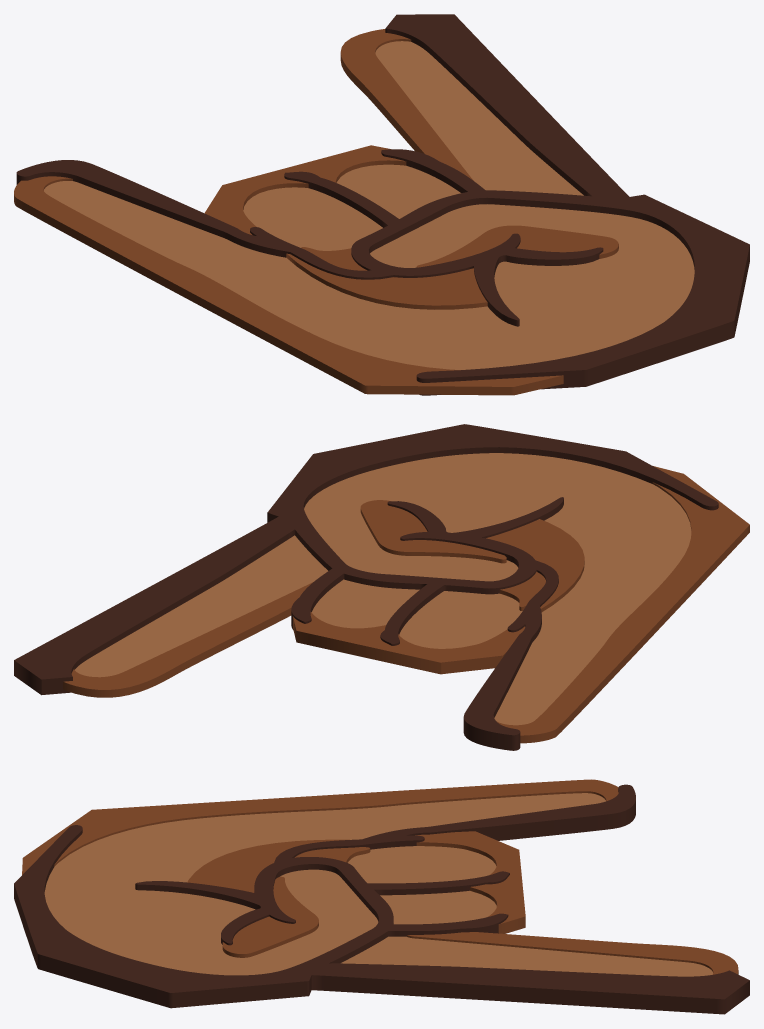
Rendered from emoji_u1f918_1f3fe.glb.
The picture shows the model from 3 angles, top to bottom: view 1: azimuth 30°, elevation 25°; view 2: azimuth 150°, elevation 25°; view 3: azimuth 270°, elevation 25°; orthographic projection. The views are drawn at different scales.
Parts seen in each view (by area): view 1: emoji_u1f918_1f3fe; view 2: emoji_u1f918_1f3fe; view 3: emoji_u1f918_1f3fe.
Part boxes in pixels (x1,y1,x2,y2): emoji_u1f918_1f3fe: (14, 14, 749, 395); emoji_u1f918_1f3fe: (14, 424, 749, 750); emoji_u1f918_1f3fe: (14, 779, 749, 1014).
Size of the model in its own units: 0.0254 by 0.0008 by 0.0353.
